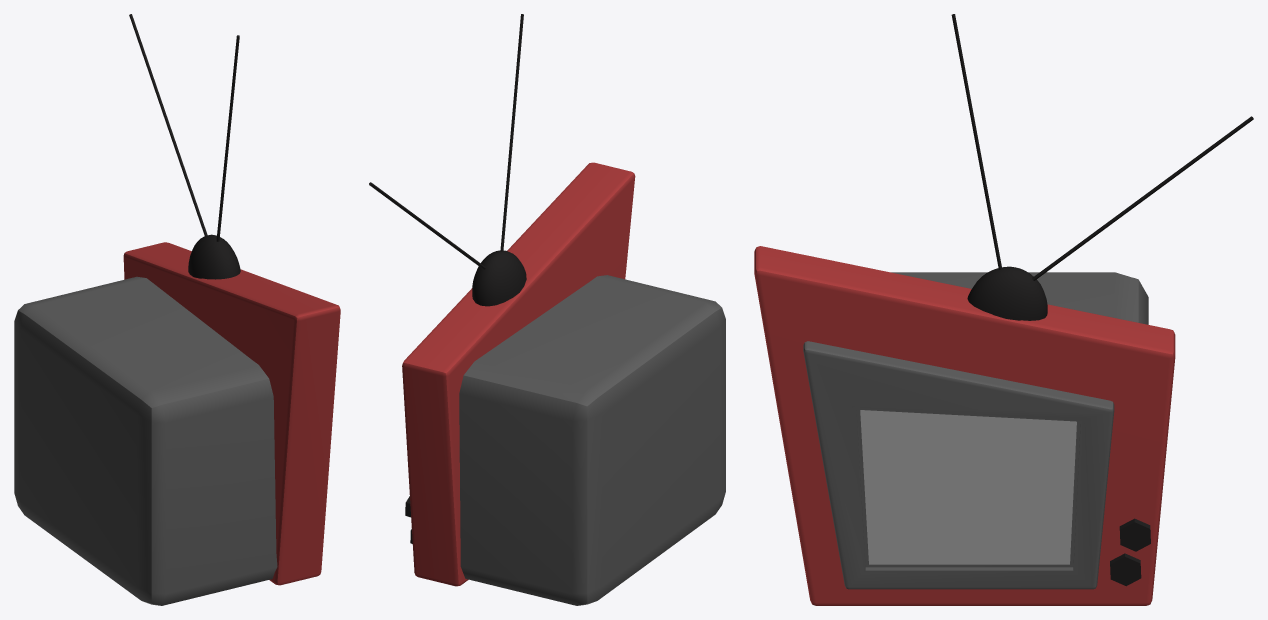
The picture shows the model from 3 angles, left to right: view 1: azimuth 30°, elevation 25°; view 2: azimuth 150°, elevation 25°; view 3: azimuth 270°, elevation 25°; orthographic projection. The views are drawn at different scales.
Parts seen in each view (by area): view 1: pCube9; view 2: pCube9; view 3: pCube9.
Part boxes in pixels (x1,y1,x2,y2): pCube9: (14, 14, 340, 605); pCube9: (369, 14, 725, 605); pCube9: (754, 14, 1253, 605).
Bounding box in the file's own units: 1.28 × 3.26 × 2.54.
